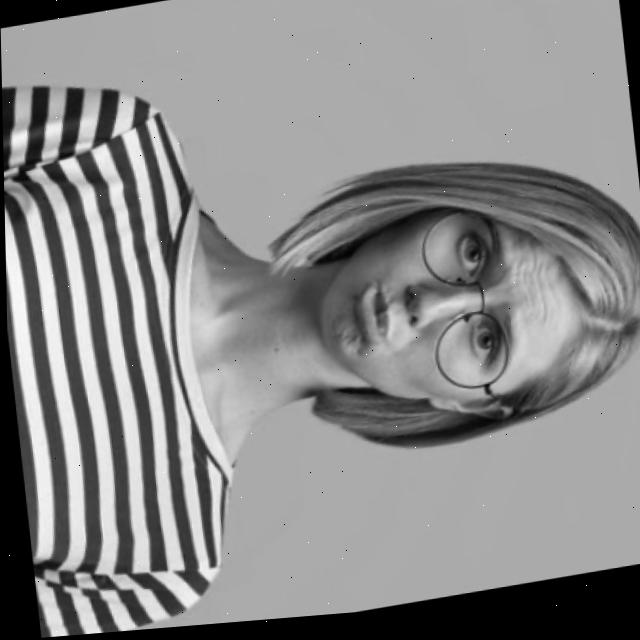sad: (321, 173, 577, 425)
